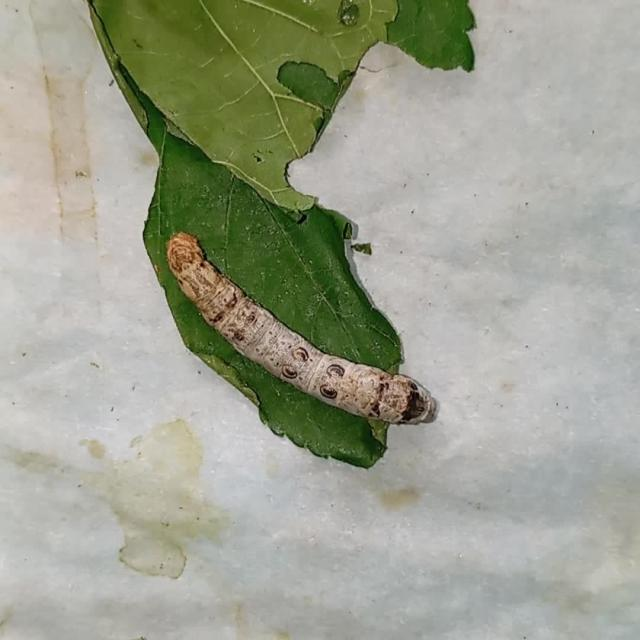Grasserie: (154, 220, 442, 458)
